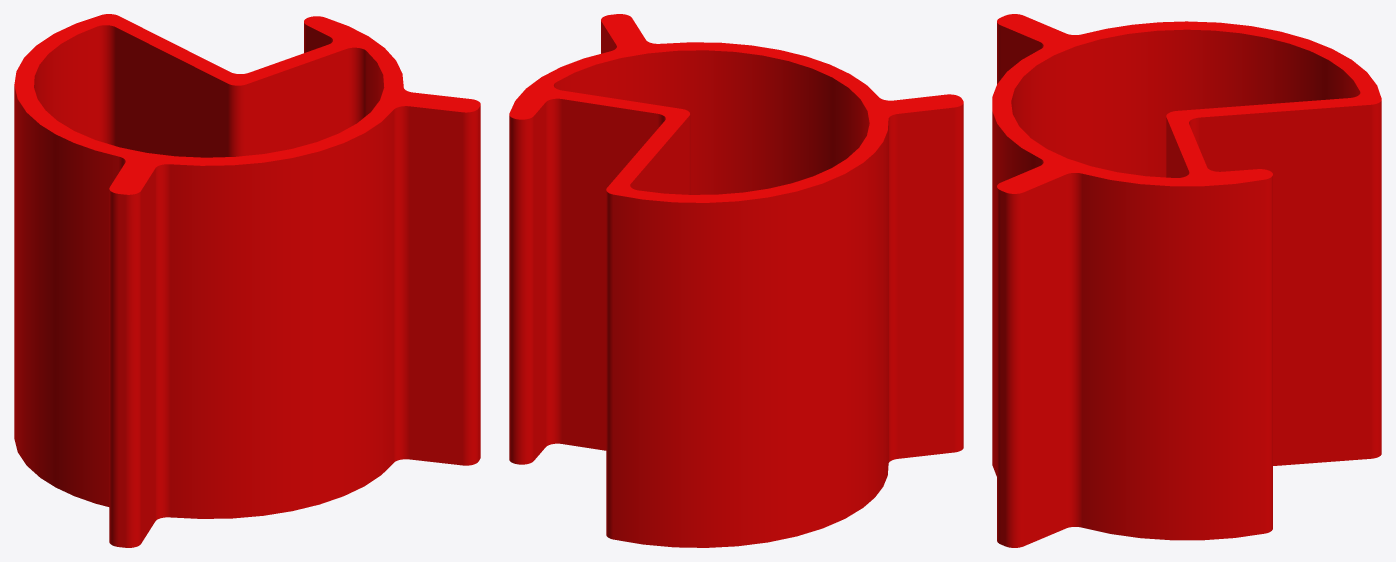
File: SupportTelephone.glb
The picture shows the model from 3 angles, left to right: view 1: azimuth 30°, elevation 25°; view 2: azimuth 150°, elevation 25°; view 3: azimuth 270°, elevation 25°; orthographic projection. The views are drawn at different scales.
Parts seen in each view (by area): view 1: SupportTelephone; view 2: SupportTelephone; view 3: SupportTelephone.
Boxes of the visible parts, left/top/right/bottom form: SupportTelephone: left=14, top=14, right=480, bottom=547; SupportTelephone: left=509, top=14, right=963, bottom=547; SupportTelephone: left=992, top=14, right=1381, bottom=547.
Bounding box in the file's own units: 0.0654 × 0.06 × 0.0598.
